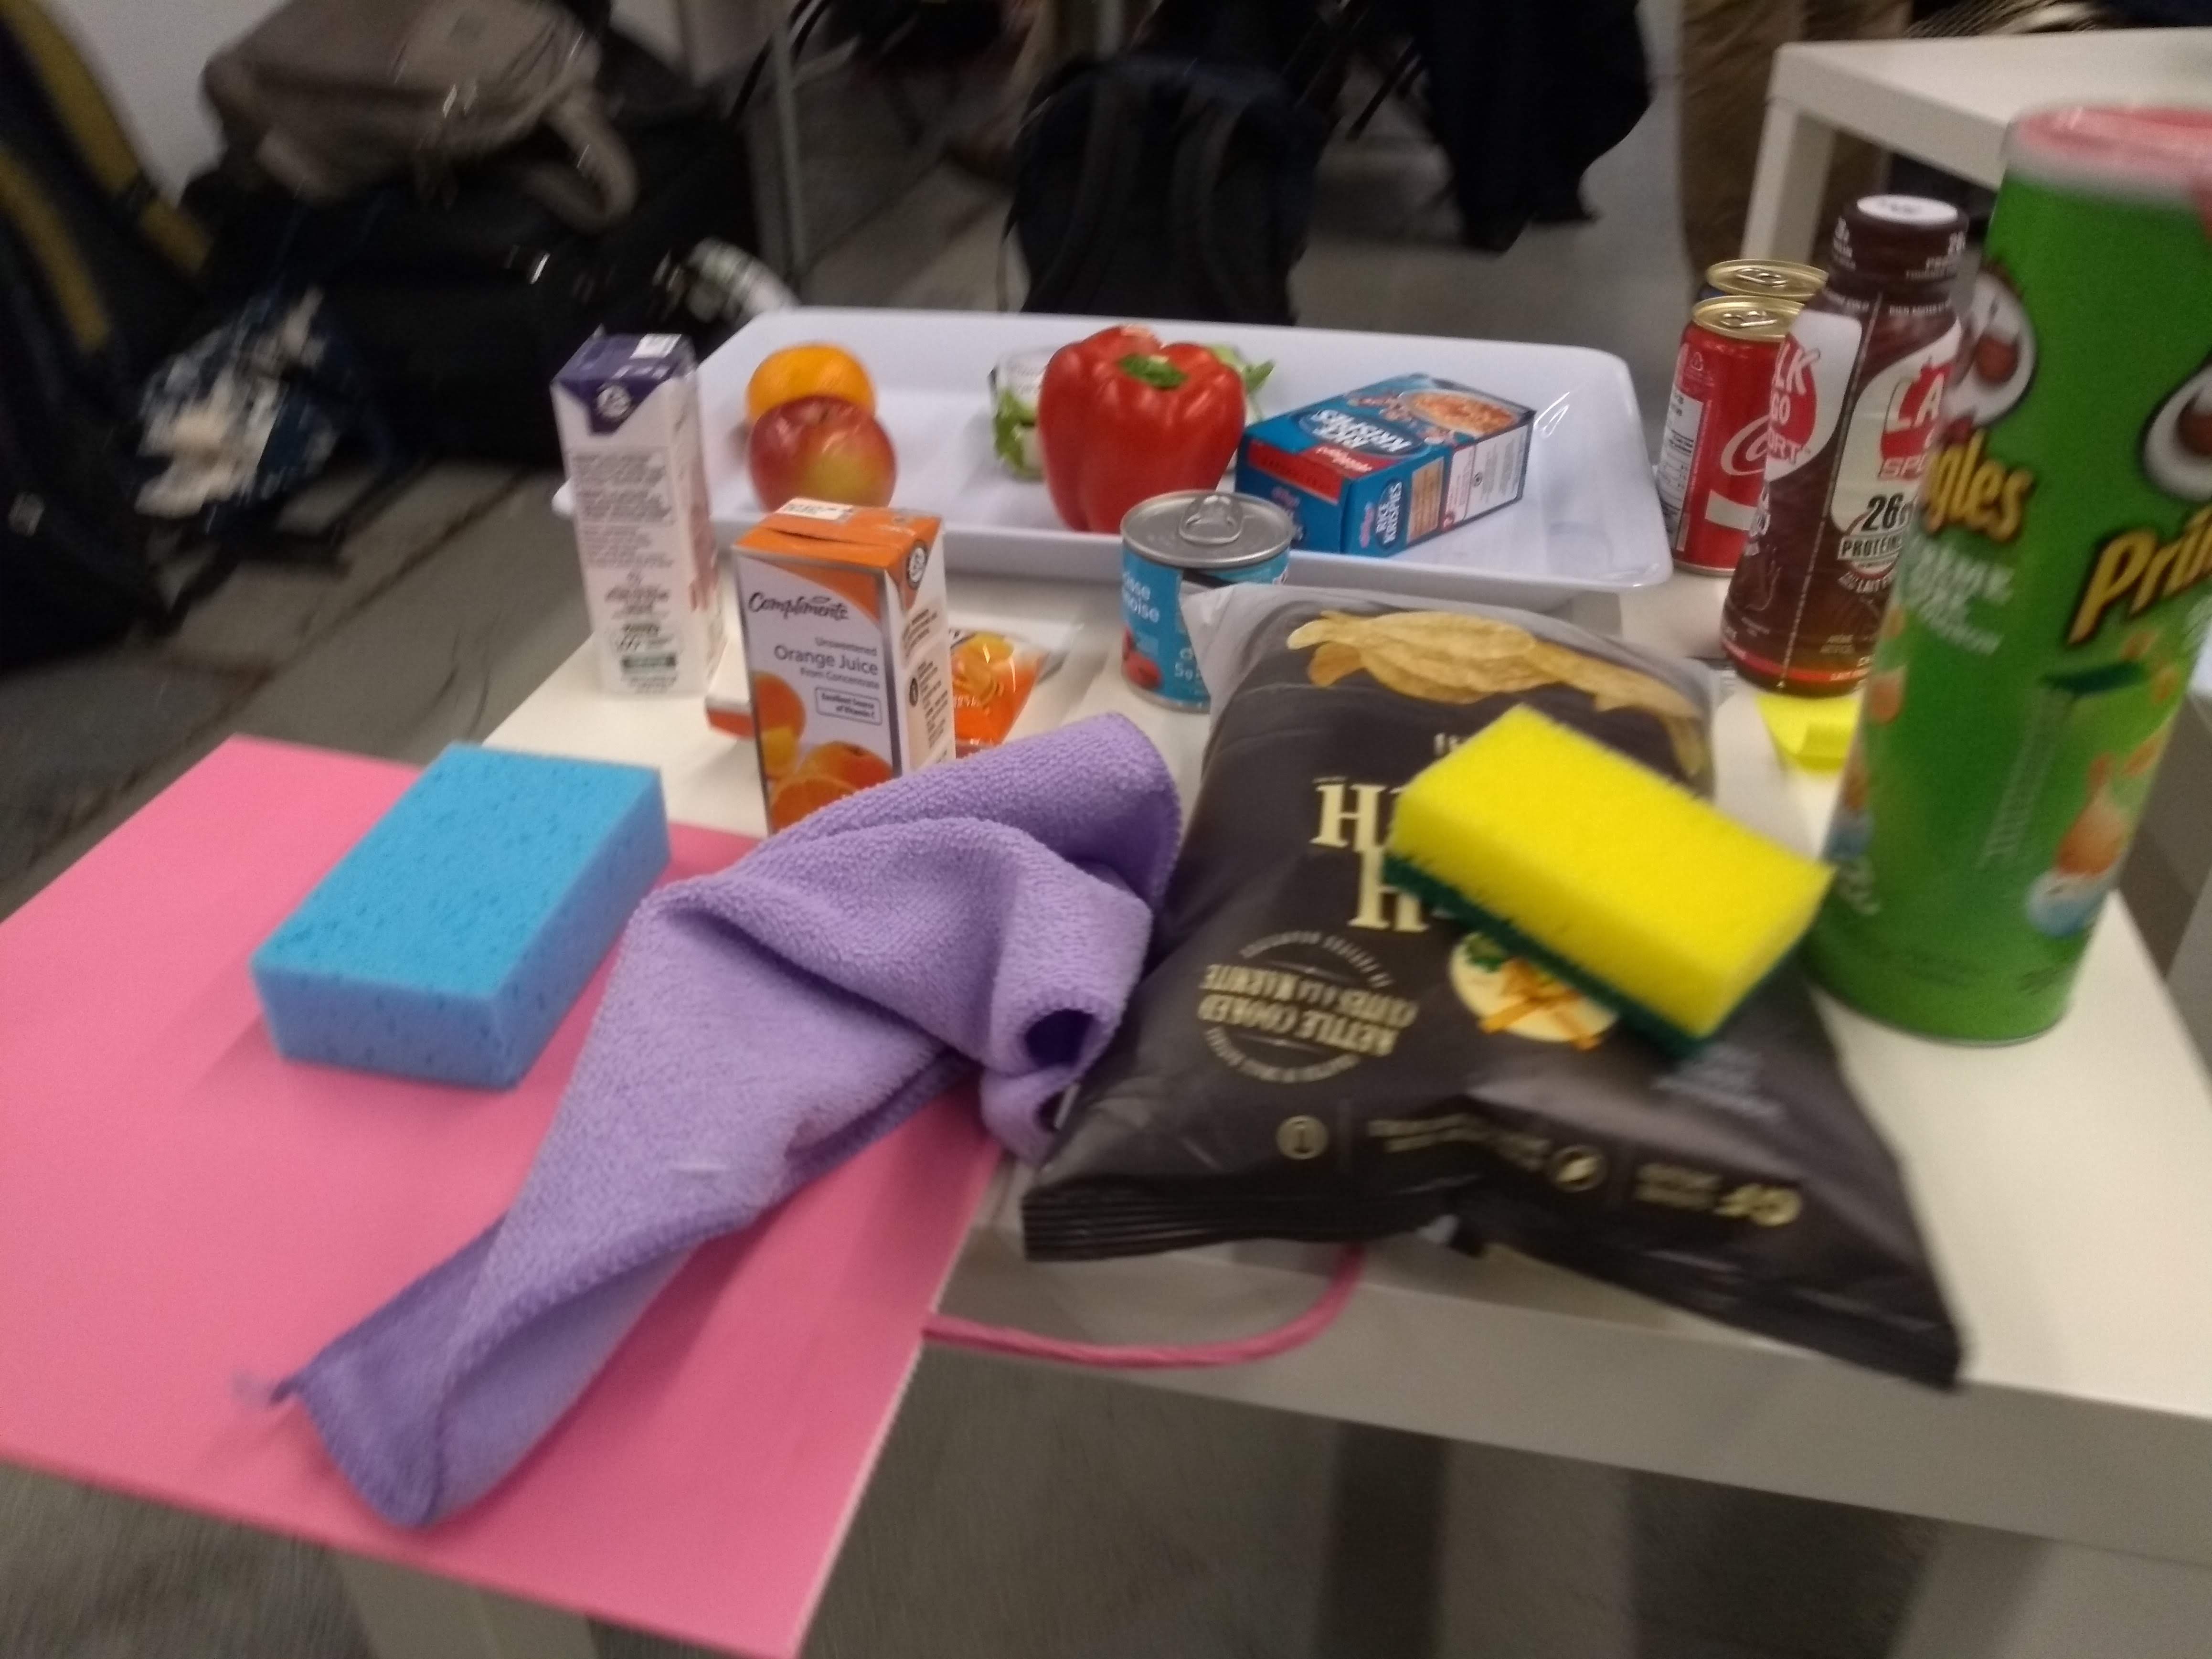cereal: (1230, 366, 1543, 568)
chocolate_drink: (1716, 193, 1993, 711)
grape_juice: (550, 308, 742, 702)
paprika: (1042, 326, 1256, 559)
scrubby: (1367, 690, 1848, 1072)
sponge_opl: (247, 727, 693, 1098)
